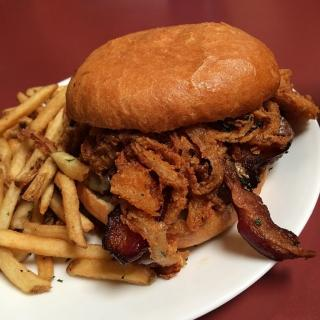French fries: (0, 73, 158, 296)
Hamburger: (65, 22, 319, 280)
